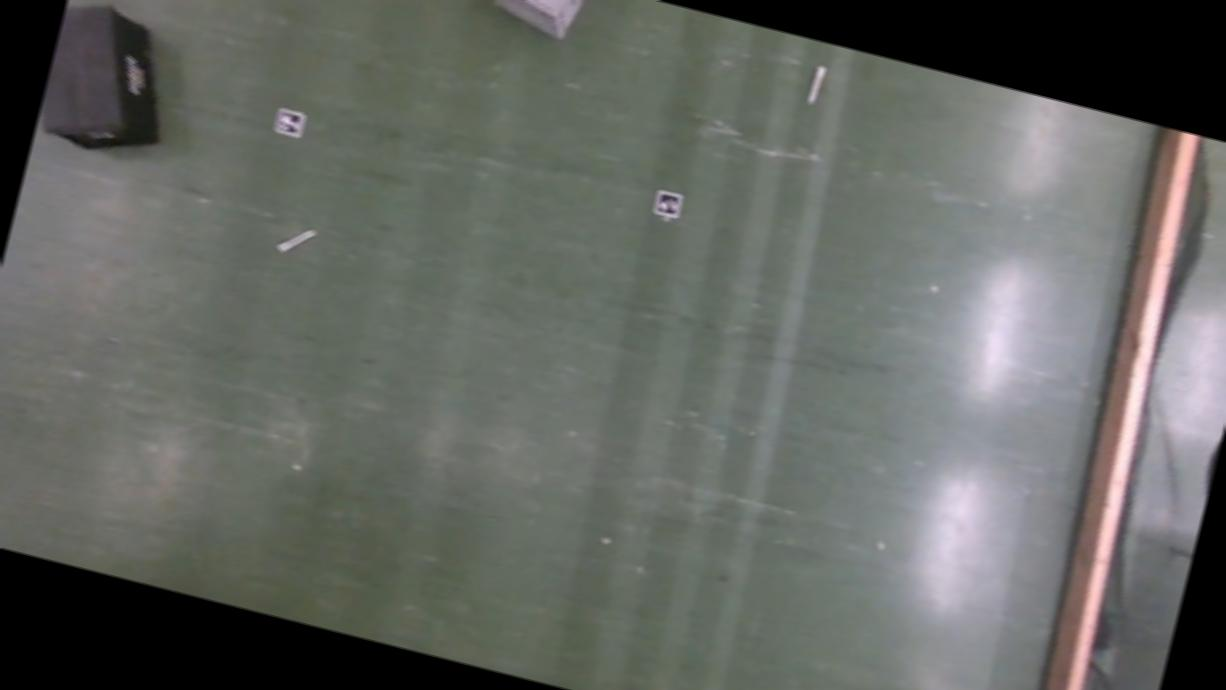probes: (278, 222, 318, 260), (806, 66, 826, 106)
rako: (32, 0, 186, 167), (473, 0, 596, 46)
